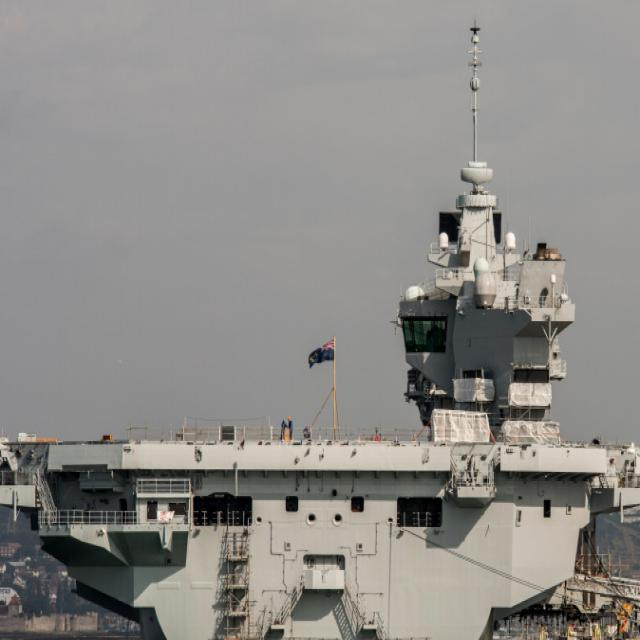Portanaves: (1, 21, 640, 640)
